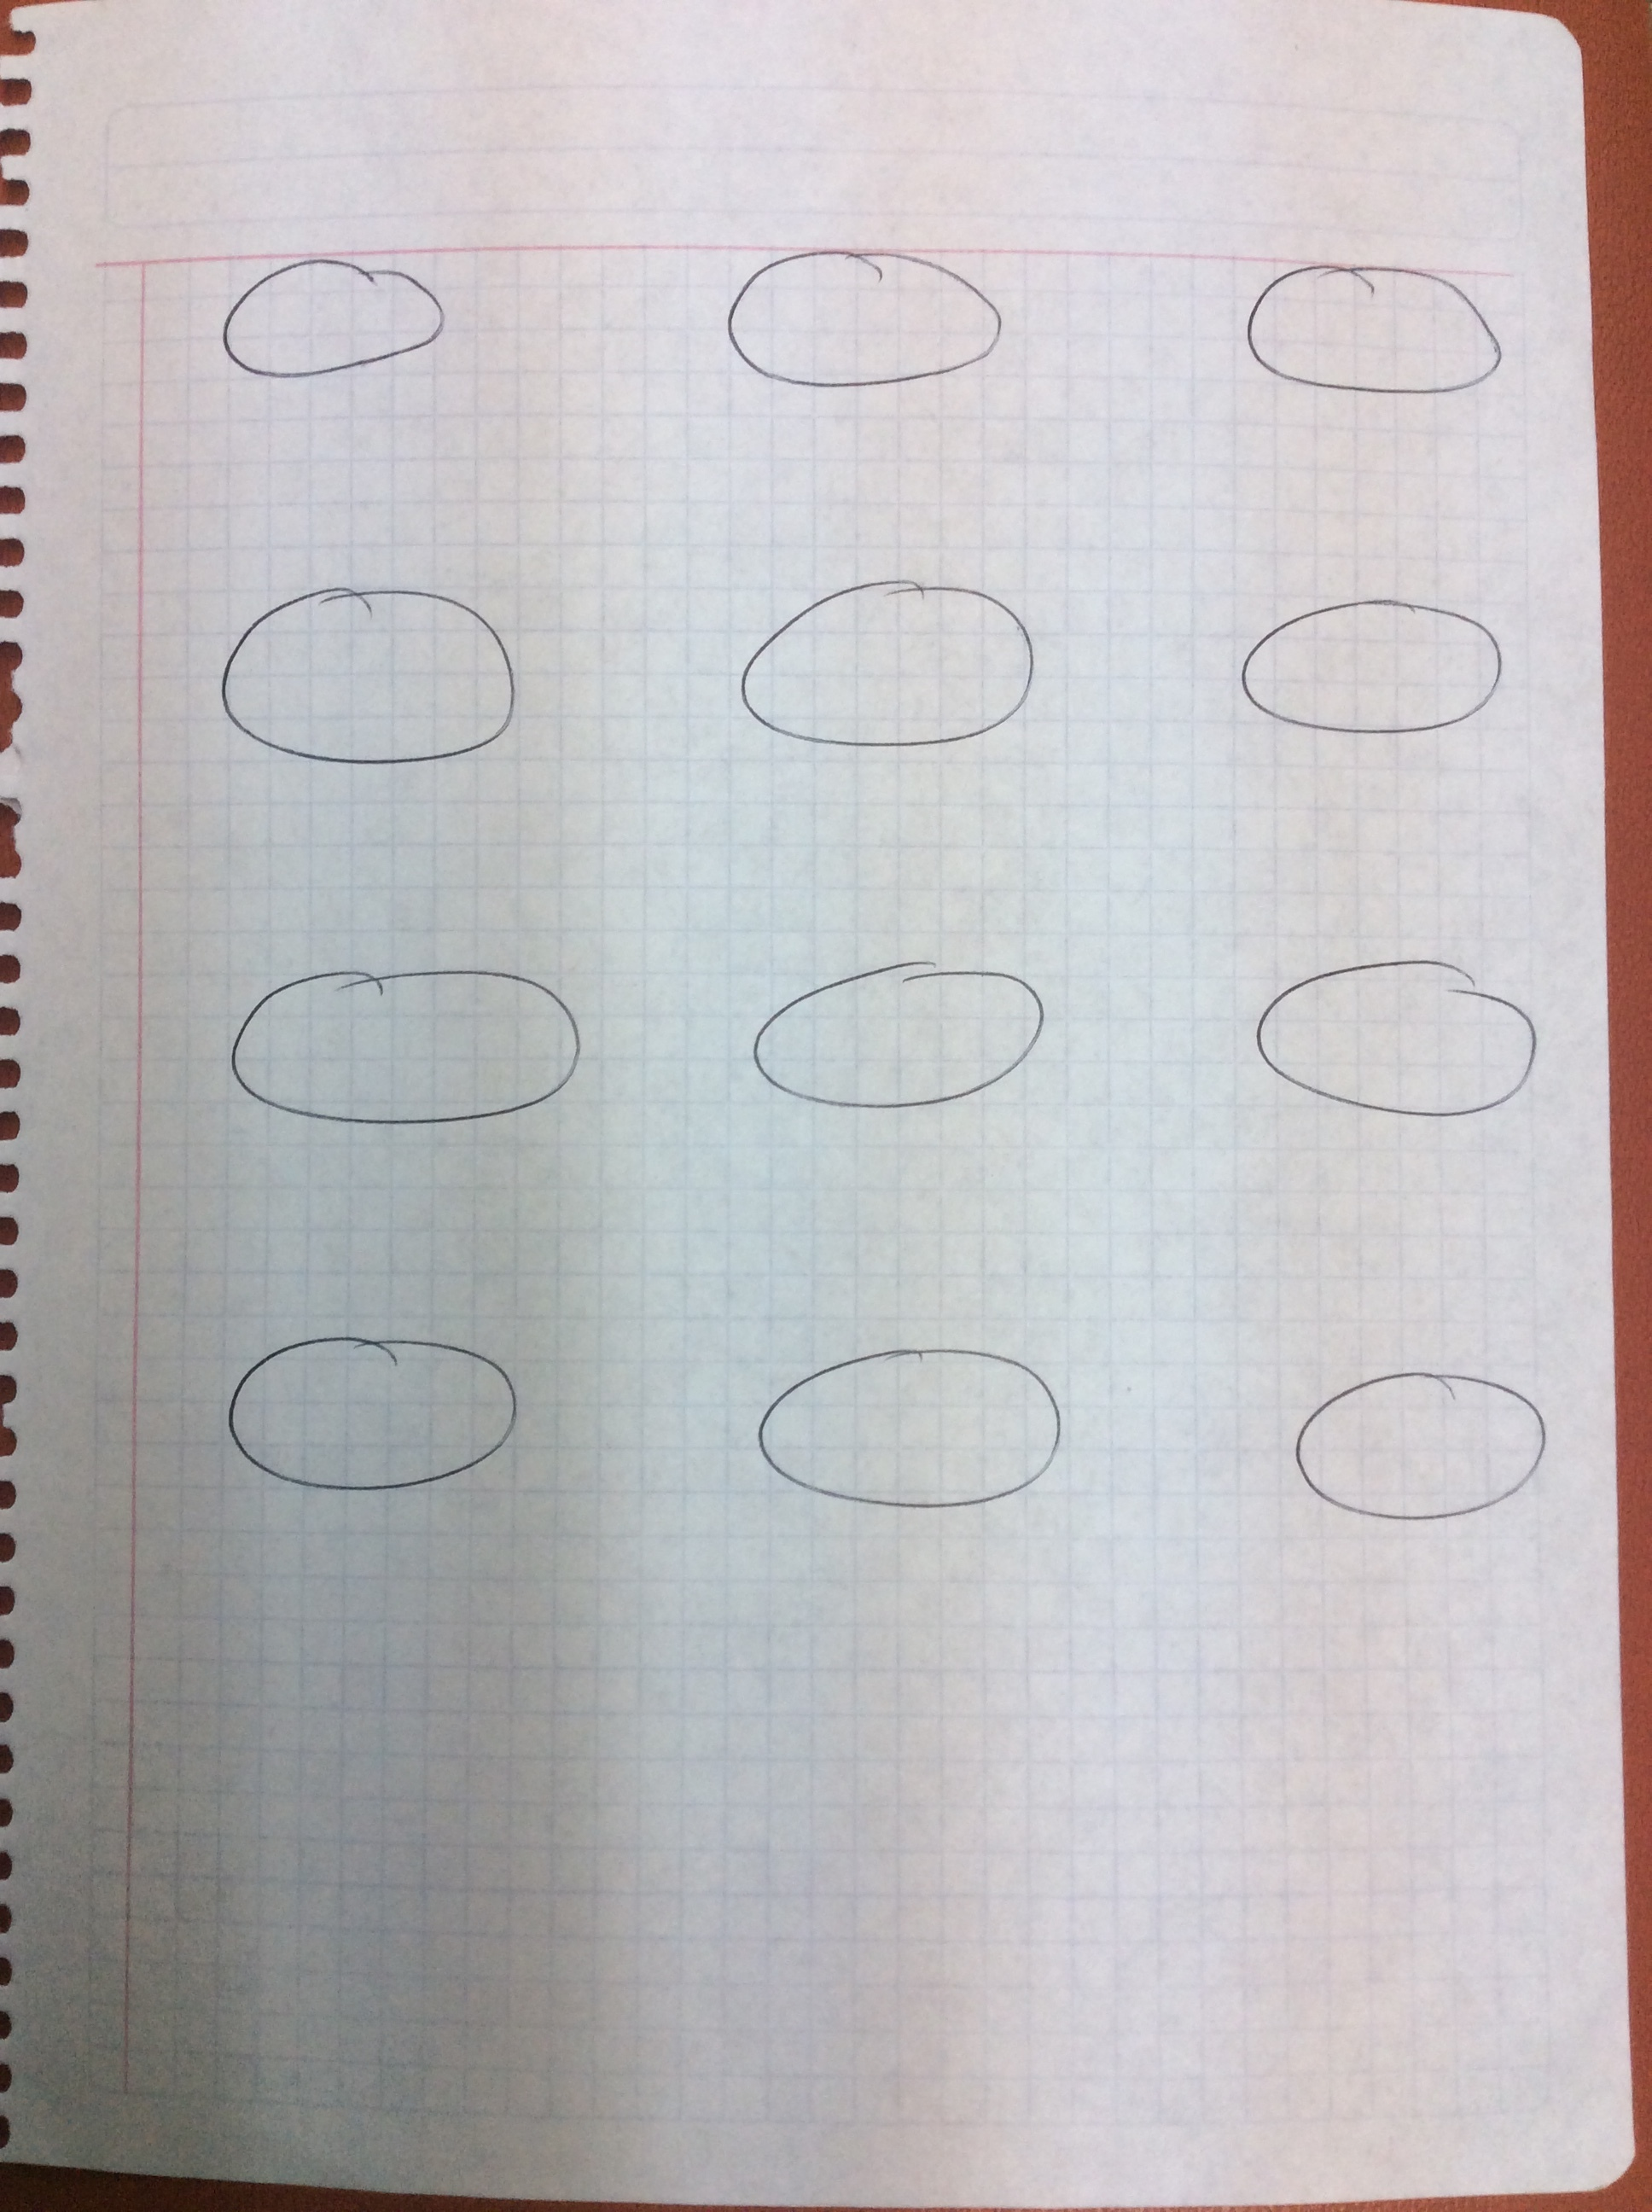start_end: (196, 939, 602, 1154), (694, 540, 1060, 776), (186, 1308, 555, 1532), (725, 1320, 1093, 1542), (186, 560, 545, 786), (1216, 914, 1555, 1154), (708, 928, 1081, 1140), (1262, 1338, 1569, 1567), (698, 219, 1036, 420), (1213, 236, 1531, 434), (1220, 583, 1527, 772), (179, 236, 472, 413)
